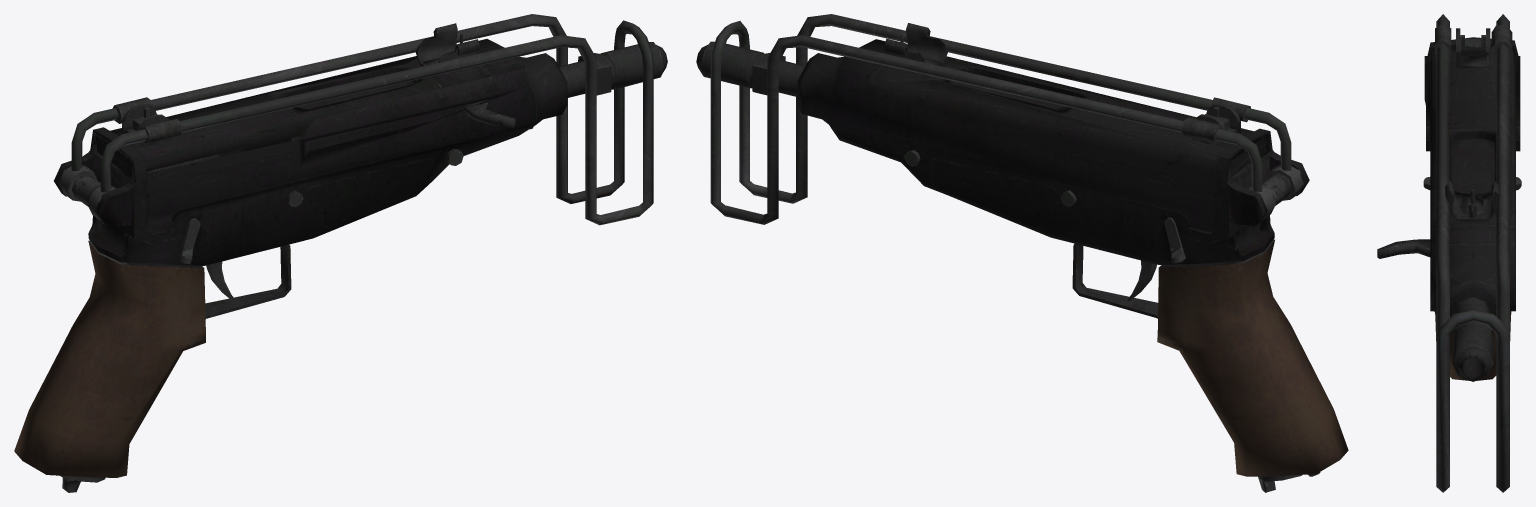
3 renders of one model, left to right at view 1: azimuth 30°, elevation 25°; view 2: azimuth 150°, elevation 25°; view 3: azimuth 270°, elevation 25°, orthographic. The views are drawn at different scales.
Visible parts, largest first — view 1: Gun_Root.006; view 2: Gun_Root.006; view 3: Gun_Root.006.
Part boxes in pixels (box(x1,y1,x2,y2)): Gun_Root.006: box(14, 14, 667, 492); Gun_Root.006: box(696, 14, 1348, 492); Gun_Root.006: box(1377, 14, 1521, 492).
Size of the model in its own units: 0.8105 by 0.437 by 0.1526.
1 material, 1 textured.
